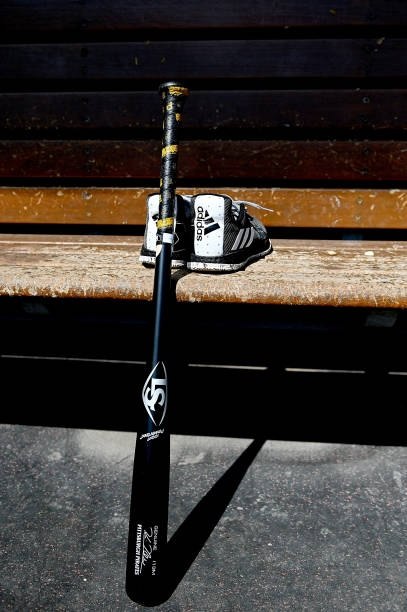bita: (118, 82, 195, 603)
